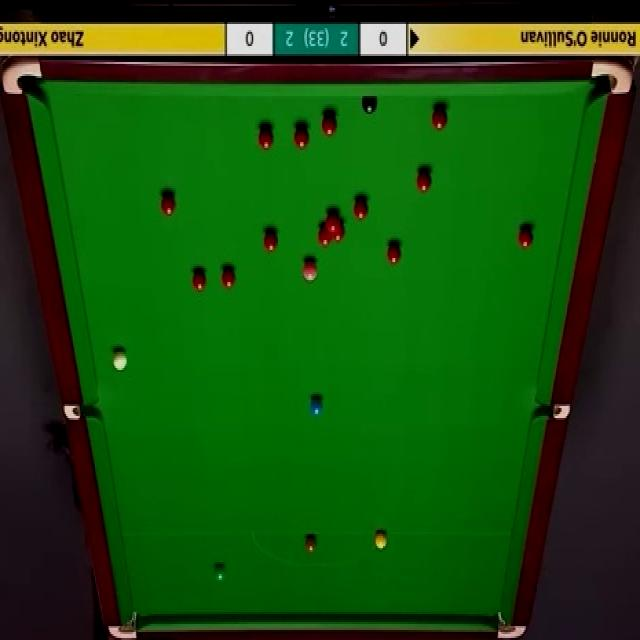black-ball: (362, 98, 378, 114)
blue-ball: (311, 396, 324, 417)
brown-ball: (304, 534, 318, 553)
green-ball: (214, 565, 225, 584)
pink-ball: (304, 263, 319, 287)
red-ball: (352, 195, 370, 222), (415, 168, 433, 194), (293, 123, 310, 149), (431, 107, 448, 132), (325, 206, 340, 234), (322, 112, 338, 138), (192, 268, 208, 294), (160, 191, 176, 217), (317, 224, 334, 248), (386, 241, 402, 266), (518, 226, 535, 248), (264, 230, 278, 254), (258, 128, 274, 149), (220, 268, 236, 288), (331, 219, 344, 242)
white-ball: (111, 349, 129, 373)
yellow-ball: (374, 530, 390, 550)
